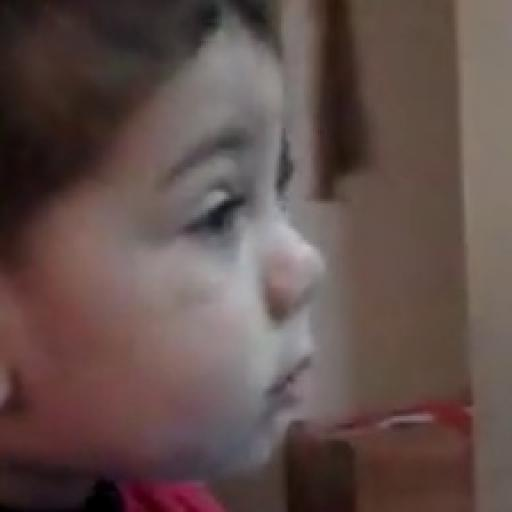Autism: (41, 22, 385, 510)
